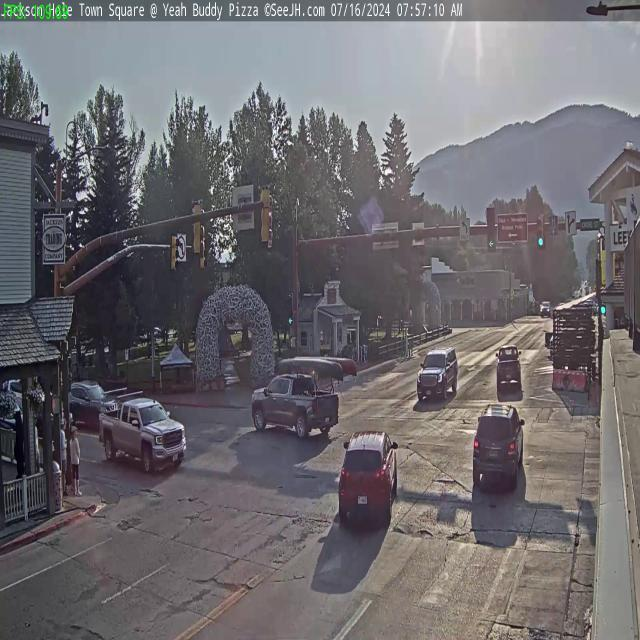person: (70, 422, 82, 500), (60, 420, 70, 500)
pickup: (98, 394, 186, 478), (248, 370, 342, 443), (494, 344, 521, 391)
suv: (336, 423, 400, 527), (472, 402, 525, 490), (66, 379, 118, 432), (417, 346, 458, 402)
traffic light: (190, 199, 203, 257), (260, 184, 272, 244), (486, 207, 496, 250), (170, 232, 180, 275), (536, 214, 544, 248)
